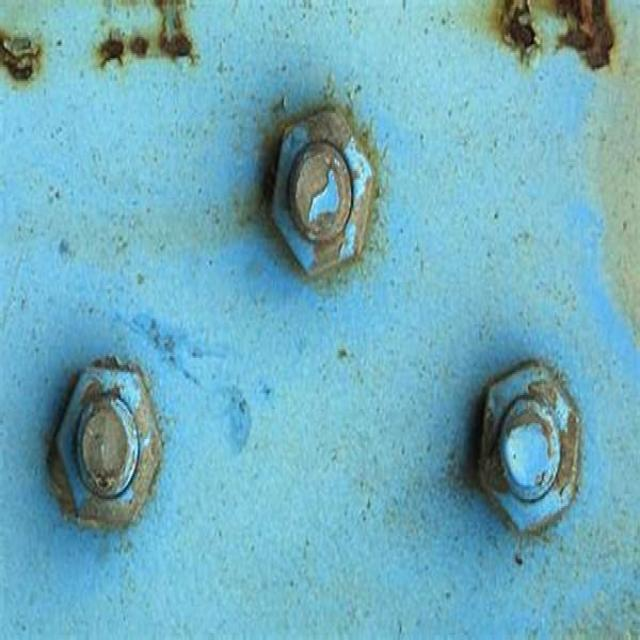bolt nut: (474, 358, 584, 538), (52, 361, 163, 529), (270, 104, 376, 279)
